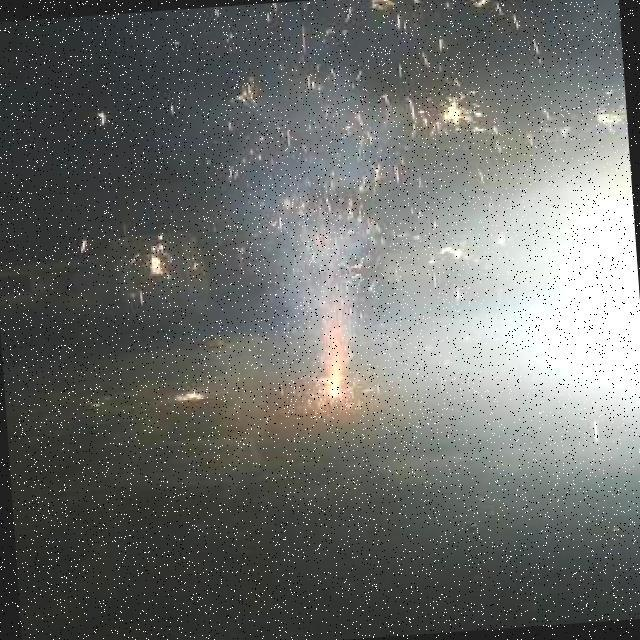Fire: (105, 0, 534, 426)
